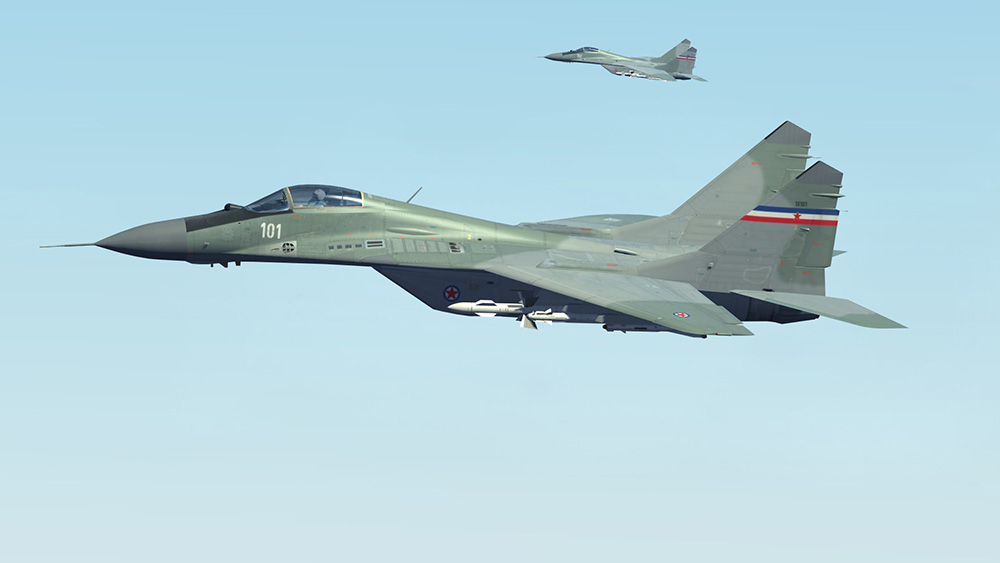Mig-29: (88, 128, 929, 376), (516, 30, 738, 91)
